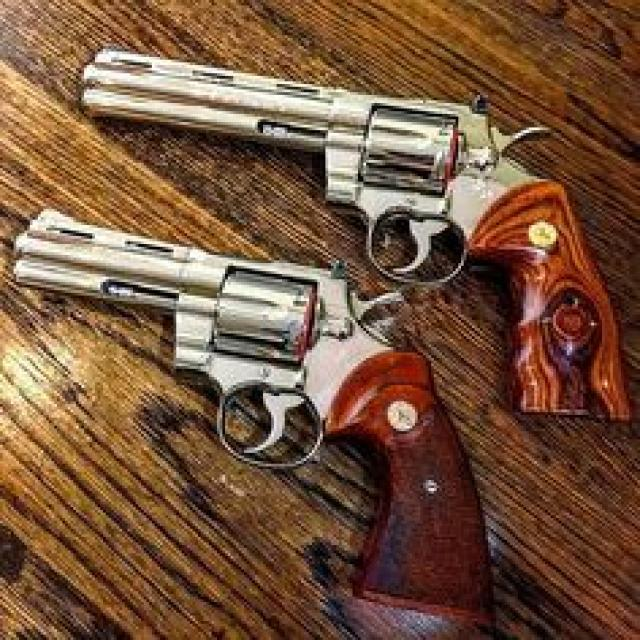revolver: (0, 20, 636, 638)
